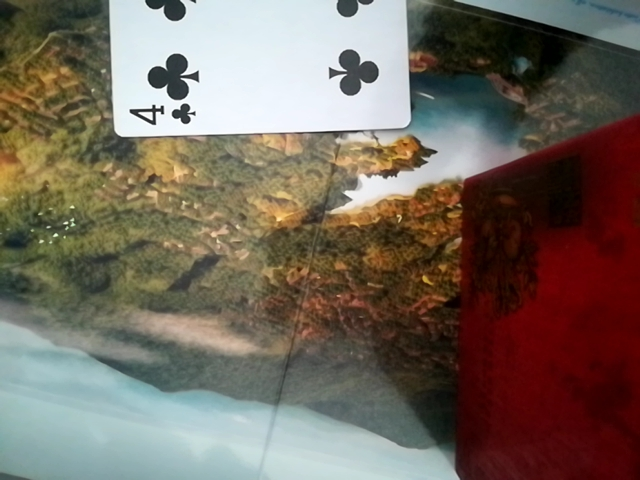mh 4: (103, 0, 411, 140)
